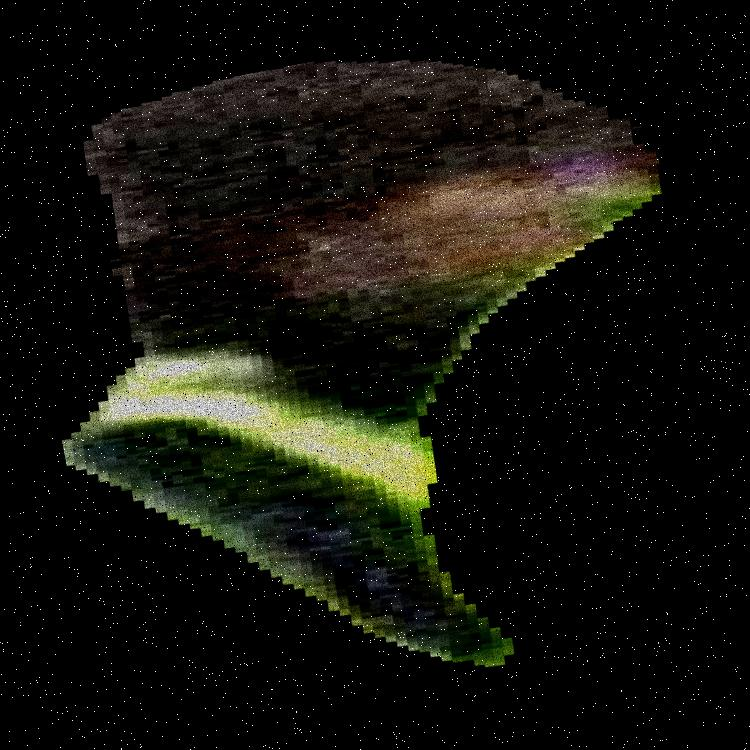Pessoa: (227, 0, 527, 749)
